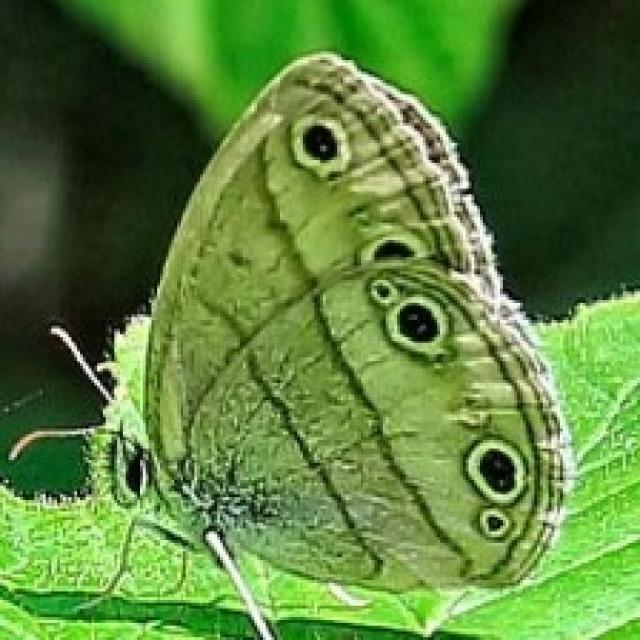butterfly: (0, 49, 577, 637)
